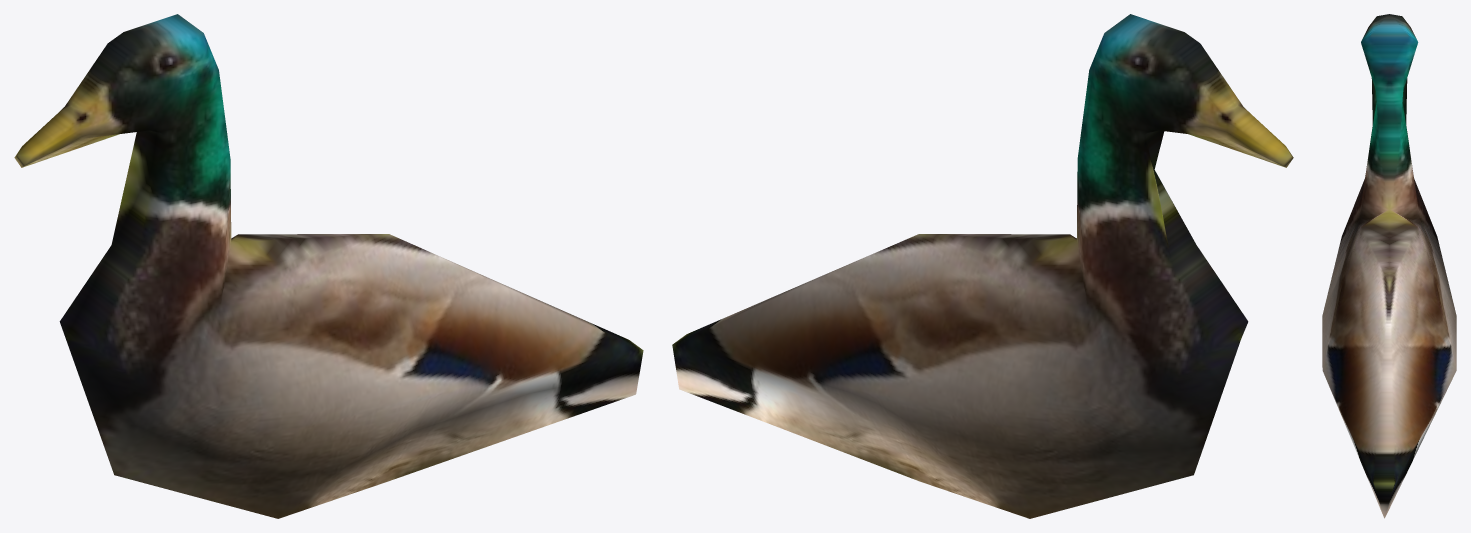
File: Duck.fbx
3 renders of one model, left to right at view 1: azimuth 30°, elevation 25°; view 2: azimuth 150°, elevation 25°; view 3: azimuth 270°, elevation 25°, orthographic. The views are drawn at different scales.
Visible parts, largest first — view 1: Cube; view 2: Cube; view 3: Cube.
Part boxes in pixels (x1=…): Cube: x1=14, y1=14, x2=643, y2=518; Cube: x1=672, y1=14, x2=1293, y2=518; Cube: x1=1322, y1=14, x2=1456, y2=518.
Size of the model in its own units: 219 by 174 by 59.38.
